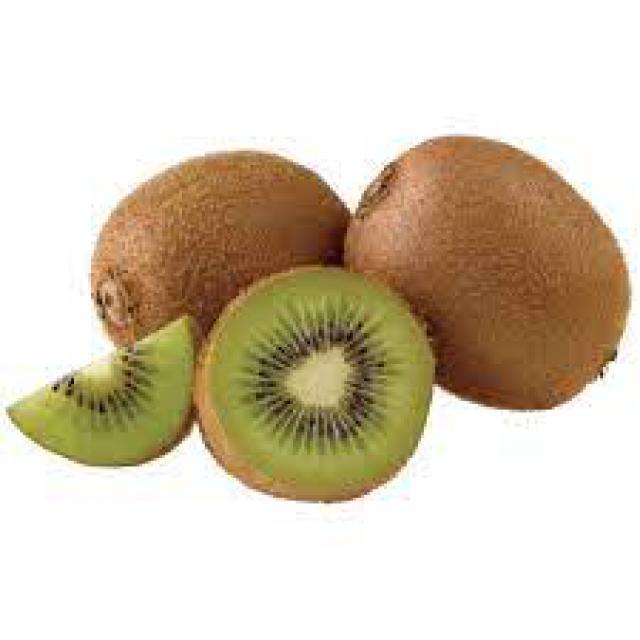kiwi: (339, 135, 627, 411), (89, 149, 357, 377)
